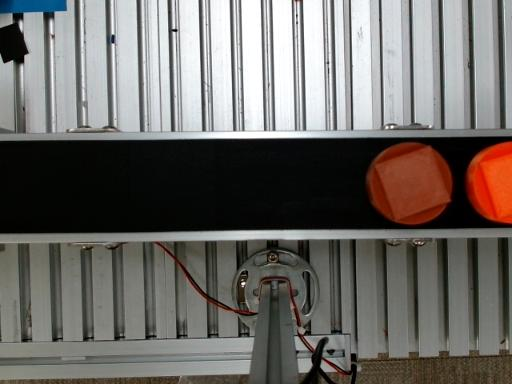Square: (374, 146, 451, 222)
